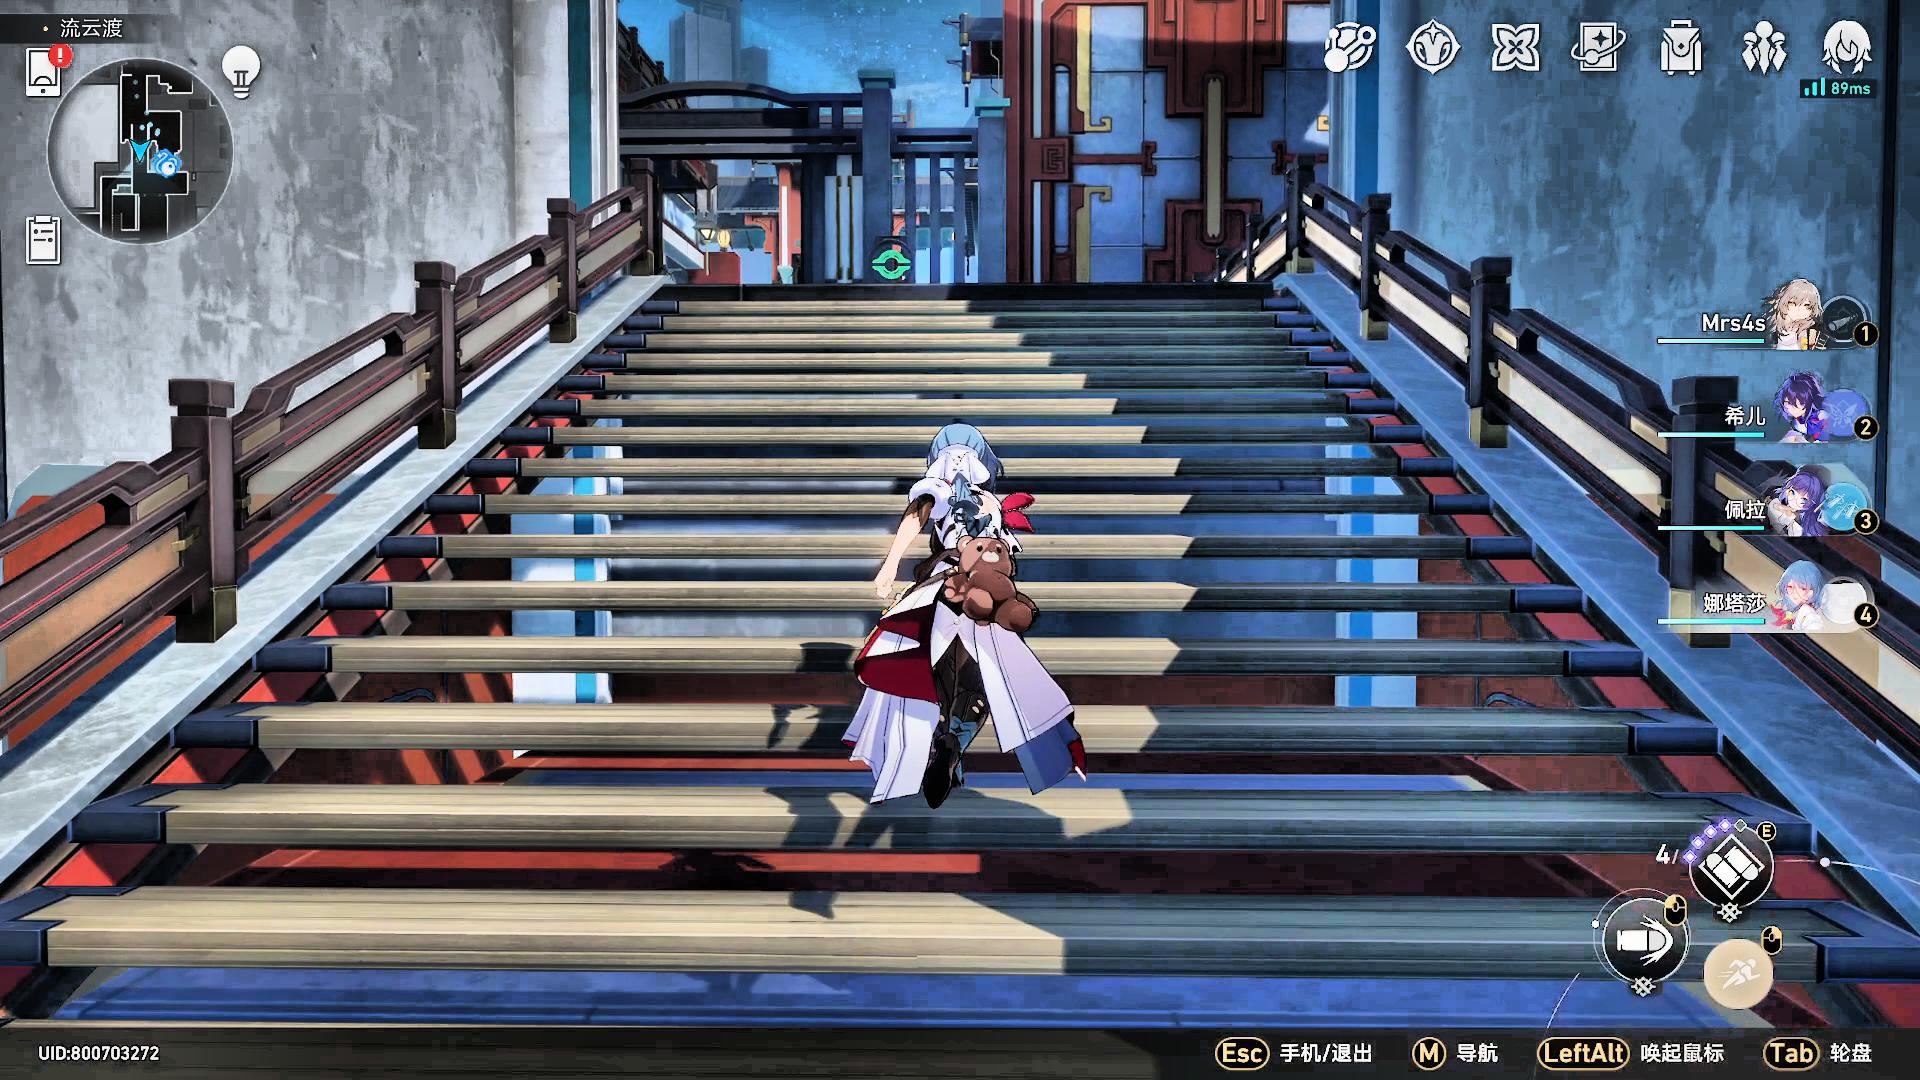Self: (822, 402, 1091, 847)
